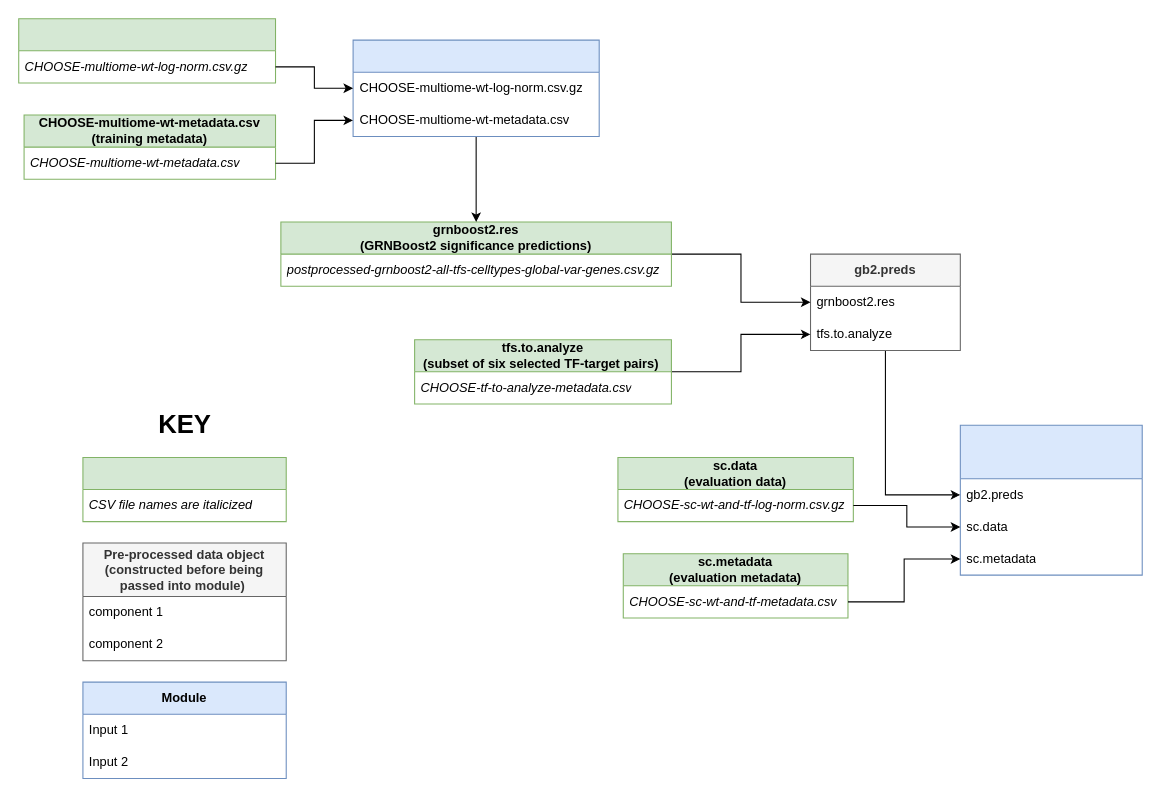
Image size: 1161x797. Some labels were removed from this diagram. The shapes that lost their labels are listed below. From the top down, each one's box as (x1, y1, x2, y2) in pixels, then its label:
(18, 18, 276, 83): CHOOSE-multiome-wt-log-norm.csv.gz (training data)
(352, 39, 599, 136): GRNBoost2 (train classifier)
(82, 456, 286, 522): CSV-formatted input data
(959, 424, 1142, 575): score.viper (VIPER computation; evaluate trained classifier)
